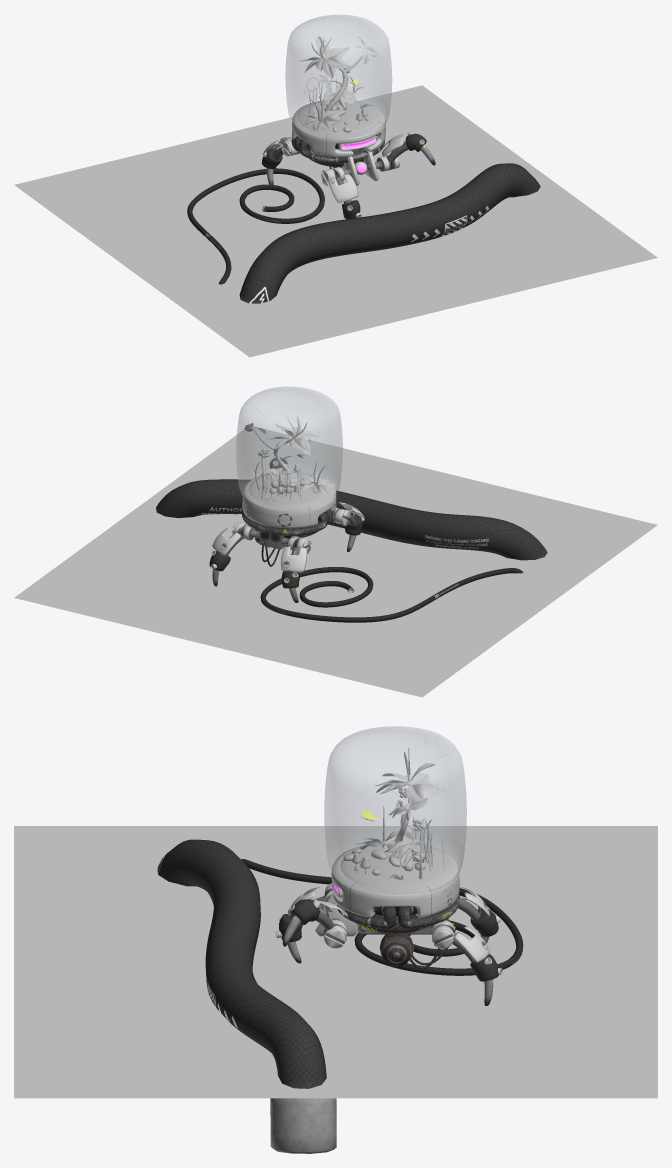
The model's file is terrarium.gltf.
3 renders of one model, top to bottom at view 1: azimuth 30°, elevation 25°; view 2: azimuth 150°, elevation 25°; view 3: azimuth 270°, elevation 25°, orthographic. The views are drawn at different scales.
Visible parts, largest first — view 1: ground, NurbsPath.002, glas_low, gravel, base_low, legs_low, plate_low, angle_low, pipe_low, connector_low; view 2: ground, NurbsPath.002, glas_low, gravel, base_low, legs_low, plate_low, pipe_low, angle_low; view 3: ground, glas_low, NurbsPath.002, gravel, base_low, legs_low, pipe_low, plate_low, motor_low, angle_low.
Part boxes in pixels (x1,y1,x2,y2): ground: (14,85,657,357); NurbsPath.002: (187,163,540,303); glas_low: (285,15,391,138); gravel: (297,36,379,134); base_low: (292,99,385,156); legs_low: (262,131,435,219); plate_low: (263,133,405,202); angle_low: (281,140,399,185); pipe_low: (291,136,384,162); connector_low: (342,147,378,185); ground: (14,426,657,697); NurbsPath.002: (156,479,547,622); glas_low: (236,386,342,510); gravel: (244,416,335,506); base_low: (242,471,336,528); legs_low: (209,457,363,602); plate_low: (212,468,364,572); pipe_low: (242,509,335,535); angle_low: (232,507,350,553); ground: (14,826,657,1098); glas_low: (324,726,466,894); NurbsPath.002: (157,839,523,1153); gravel: (340,747,452,889); base_low: (331,844,459,918); legs_low: (275,896,502,1005); pipe_low: (336,893,460,928); plate_low: (288,885,490,962); motor_low: (379,923,455,969); angle_low: (324,883,454,948).
Size of the model in its own units: 1177 by 605 by 1161.
